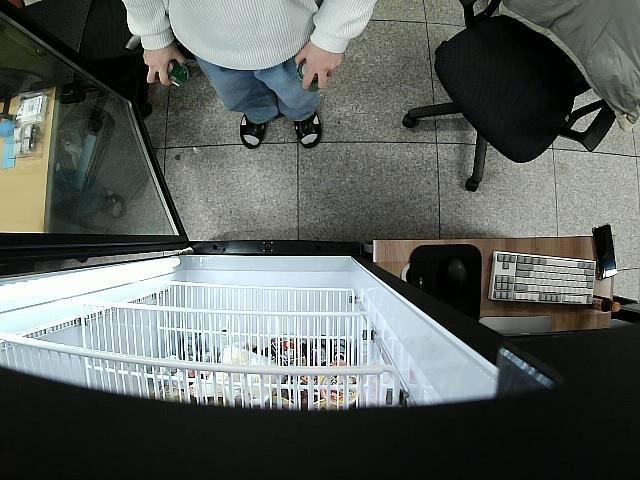12_chilsungCider: (297, 59, 319, 92), (167, 60, 190, 88)
